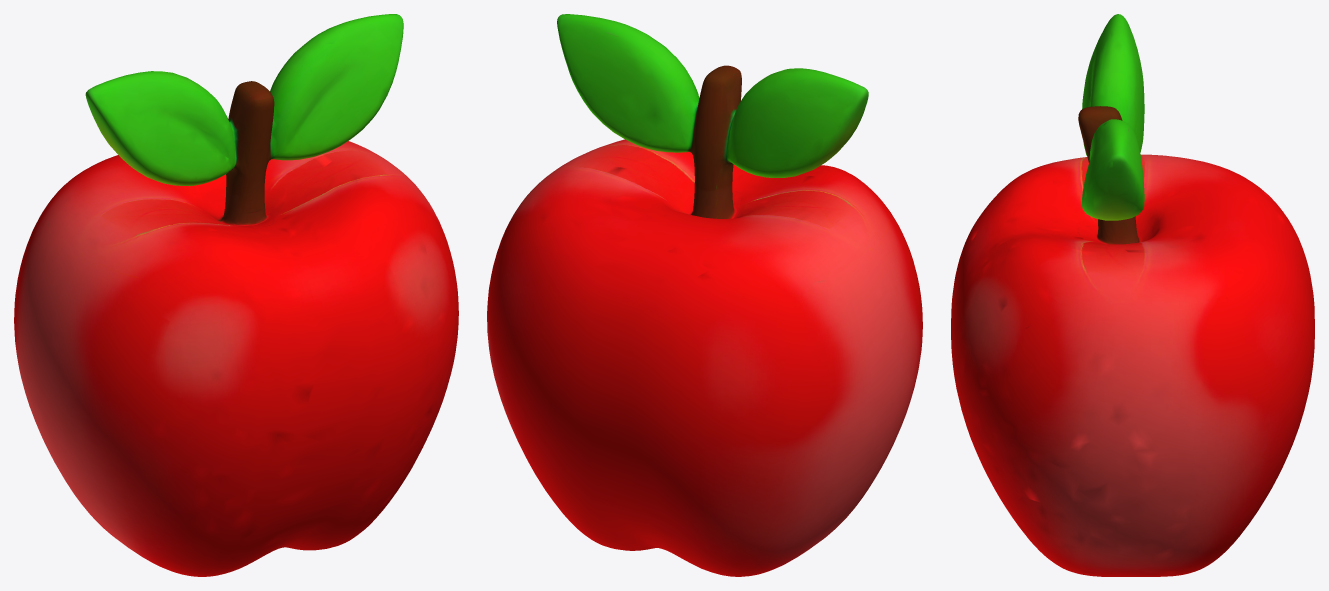
The model's file is apple.glb.
3 renders of one model, left to right at view 1: azimuth 30°, elevation 25°; view 2: azimuth 150°, elevation 25°; view 3: azimuth 270°, elevation 25°, orthographic. The views are drawn at different scales.
Parts seen in each view (by area): view 1: model; view 2: model; view 3: model.
Boxes of the visible parts, left/top/right/bottom form: model: left=14, top=14, right=458, bottom=576; model: left=487, top=14, right=922, bottom=576; model: left=951, top=14, right=1314, bottom=576.
Size of the model in its own units: 1.54 by 1.9 by 1.36.
1 material, 1 textured.
